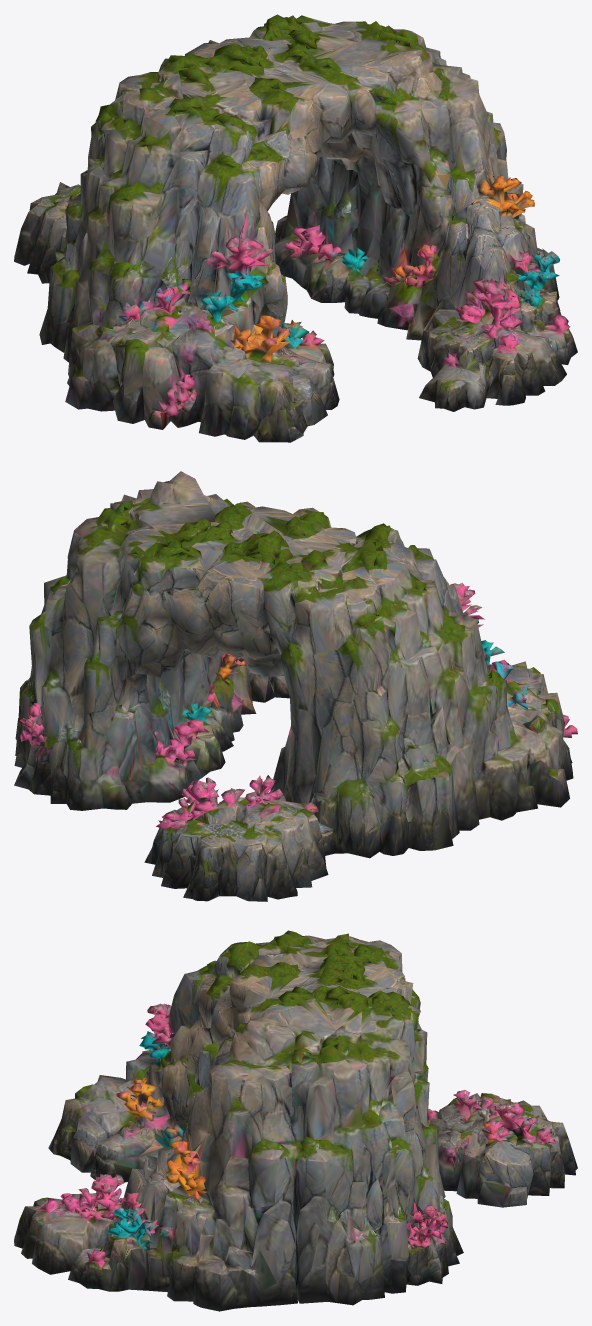
Rendered from low_reef_arch.glb.
The picture shows the model from 3 angles, top to bottom: view 1: azimuth 30°, elevation 25°; view 2: azimuth 150°, elevation 25°; view 3: azimuth 270°, elevation 25°; orthographic projection. The views are drawn at different scales.
Visible parts, largest first — view 1: Model; view 2: Model; view 3: Model.
Boxes of the visible parts, left/top/right/bottom form: Model: left=14, top=14, right=577, bottom=442; Model: left=14, top=471, right=577, bottom=901; Model: left=14, top=930, right=577, bottom=1311.
Bounding box in the file's own units: 44.6 × 22.62 × 48.
1 material, 1 textured.
